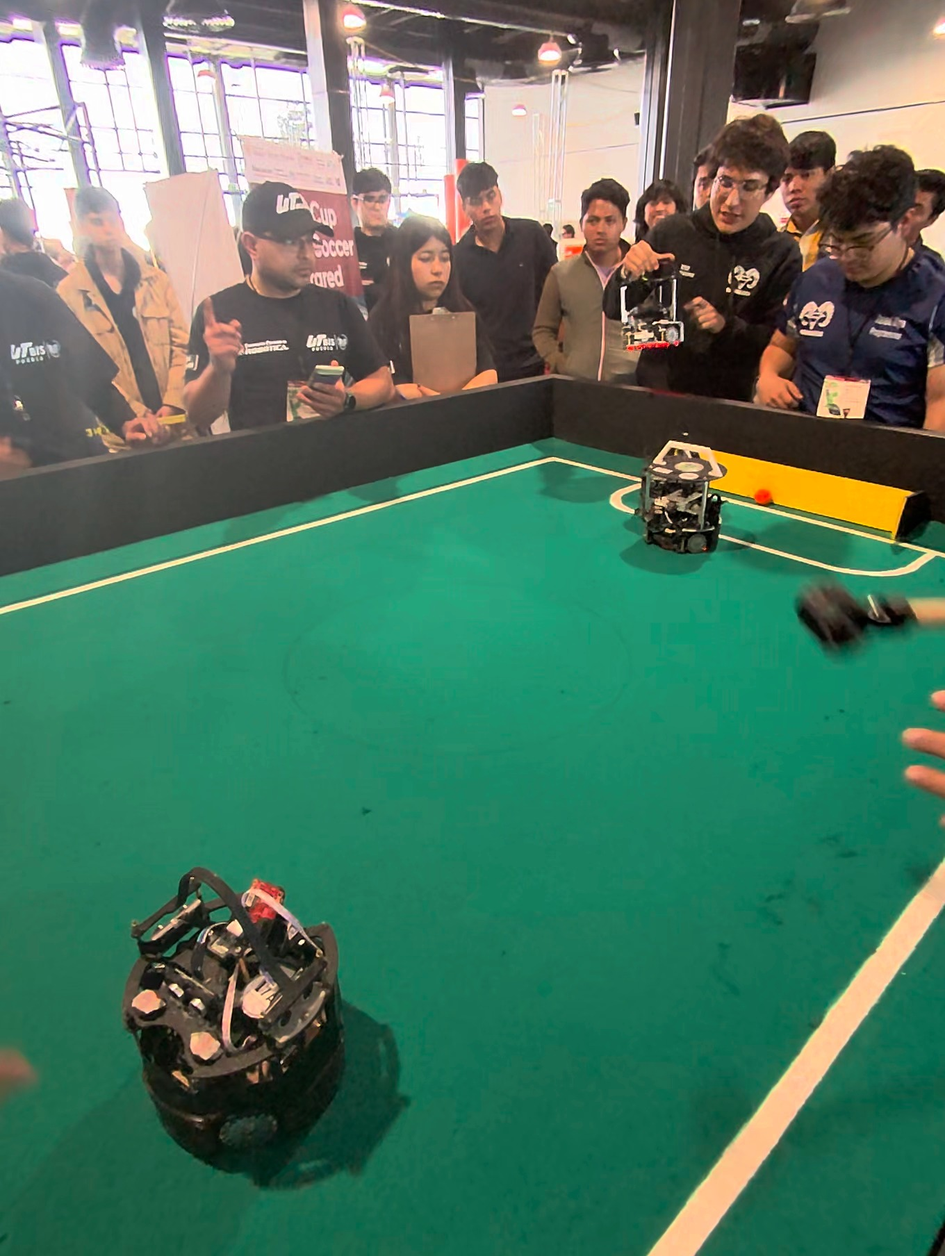Robot: (110, 851, 361, 1190), (636, 431, 728, 566)
pelota: (755, 489, 771, 505)
